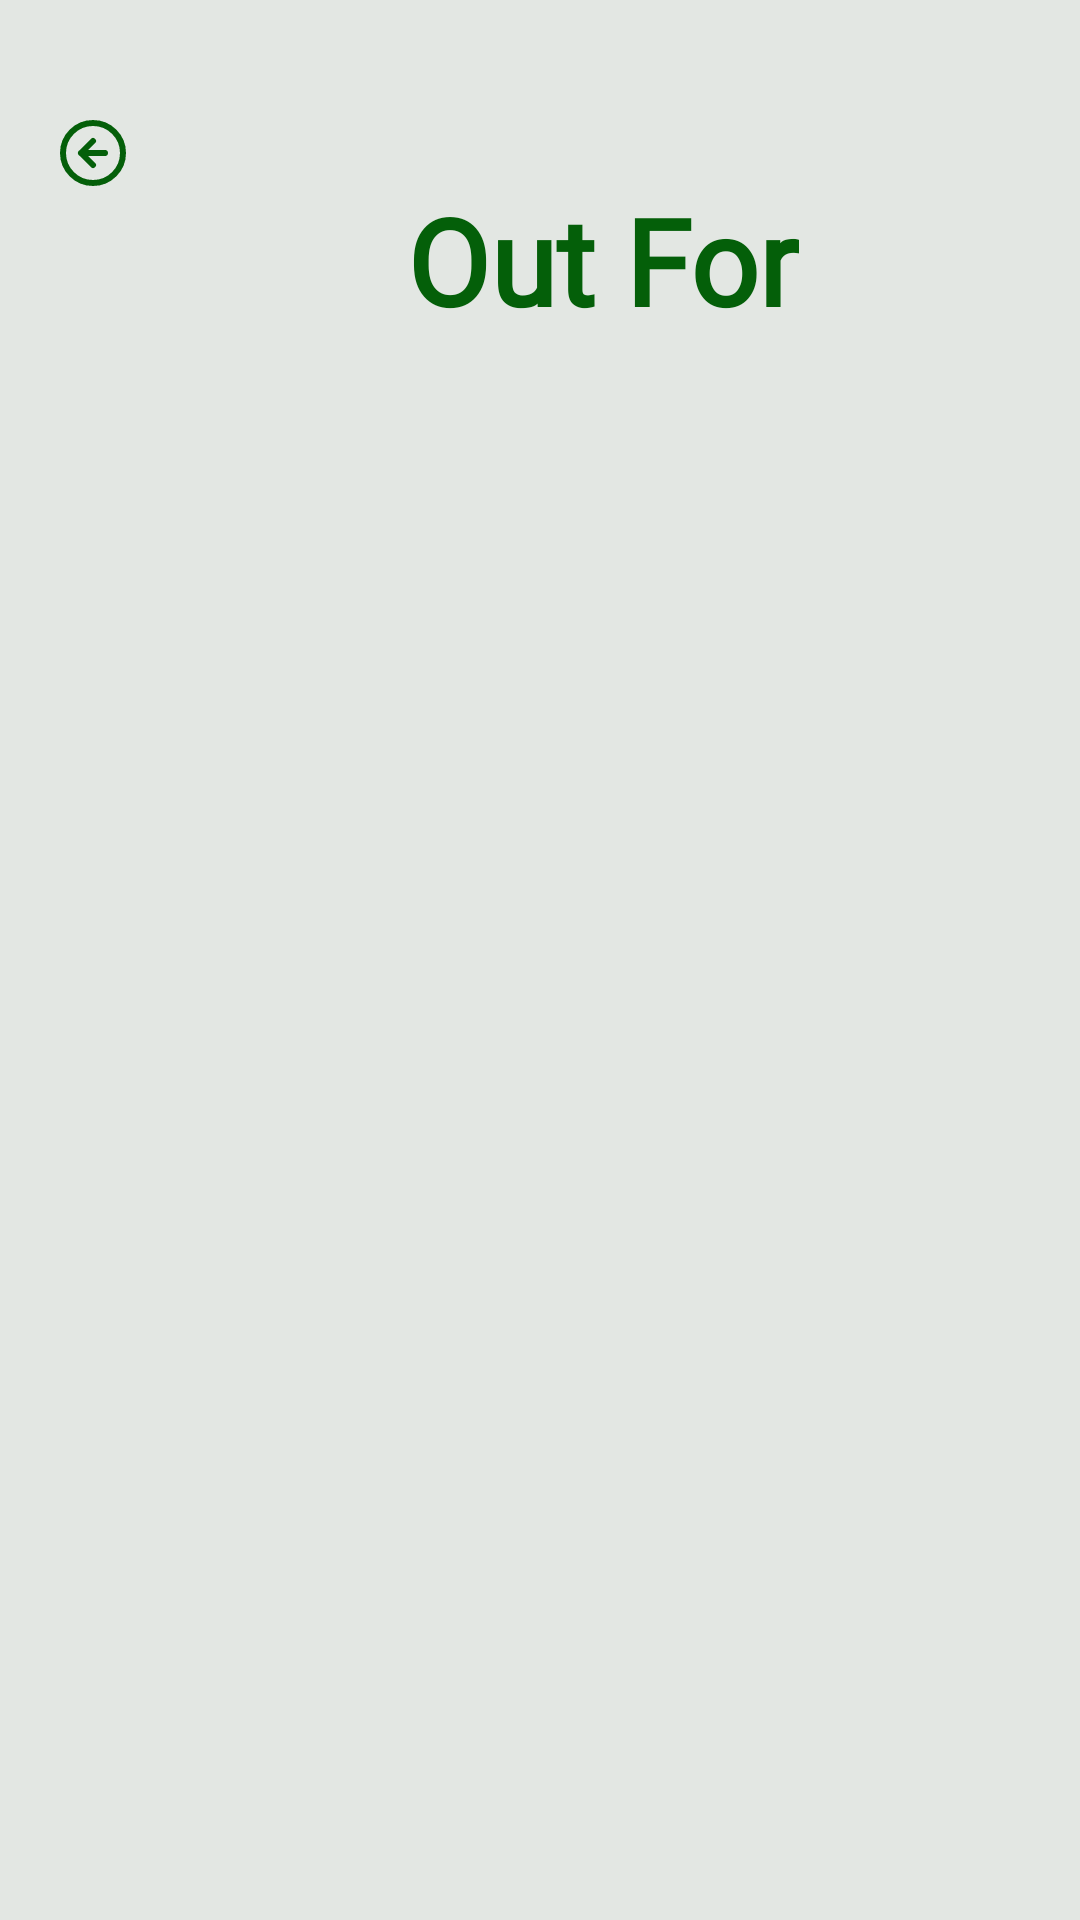

Where to tap for icons on this 1080px x 1920px app screen, as point (x, y):
arrowleft: point (93, 153)
